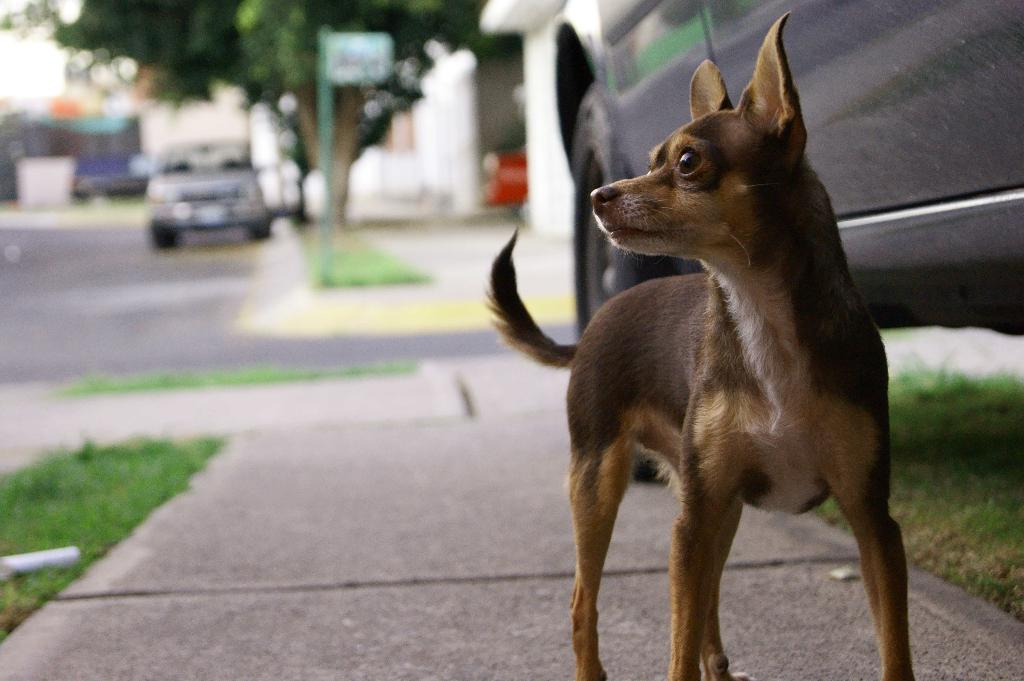cars: (569, 0, 1022, 479), (143, 145, 274, 255)
